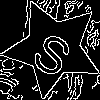S: (28, 23, 81, 80)
